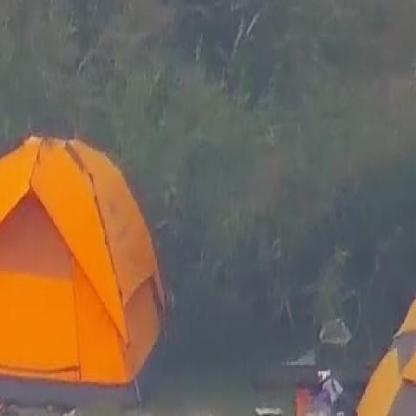other: (2, 134, 175, 394), (359, 274, 414, 409)
